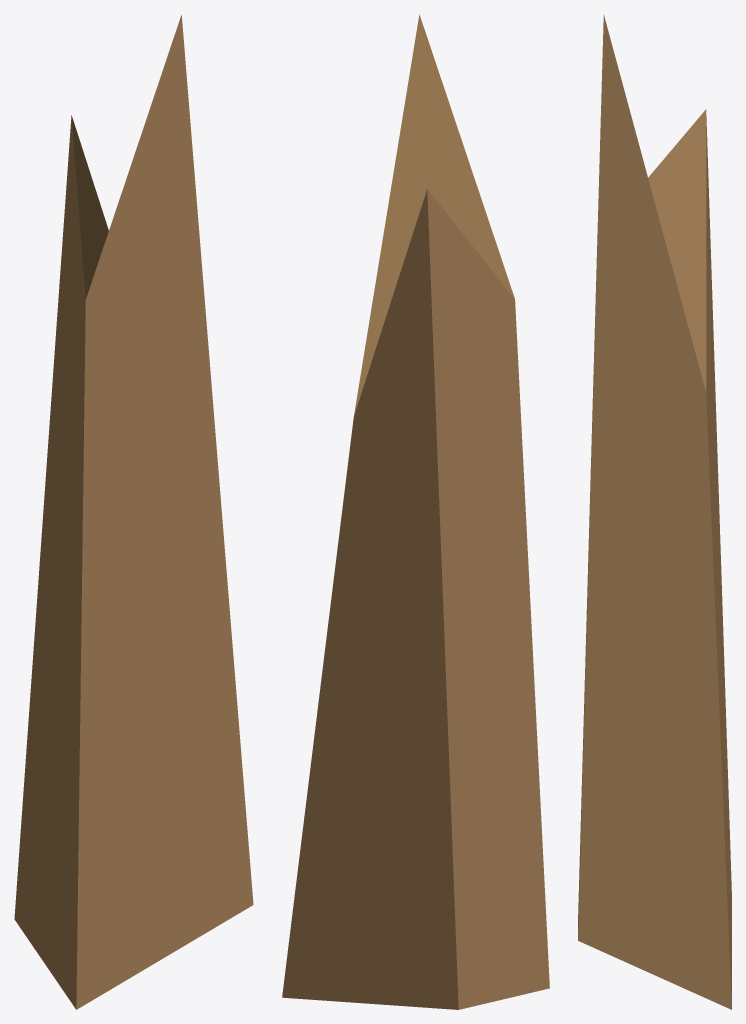
File: SM_WoodSplinter_01.fbx
The picture shows the model from 3 angles, left to right: view 1: azimuth 30°, elevation 25°; view 2: azimuth 150°, elevation 25°; view 3: azimuth 270°, elevation 25°; orthographic projection.
Visible parts, largest first — view 1: SM_WoodSplinter_01; view 2: SM_WoodSplinter_01; view 3: SM_WoodSplinter_01.
Part boxes in pixels (<box>): SM_WoodSplinter_01: <box>14,15,253,1009</box>; SM_WoodSplinter_01: <box>282,14,549,1009</box>; SM_WoodSplinter_01: <box>578,14,731,1009</box>.
Size of what is drawn, in the model's own units: 0.13 by 0.09 by 0.62.
